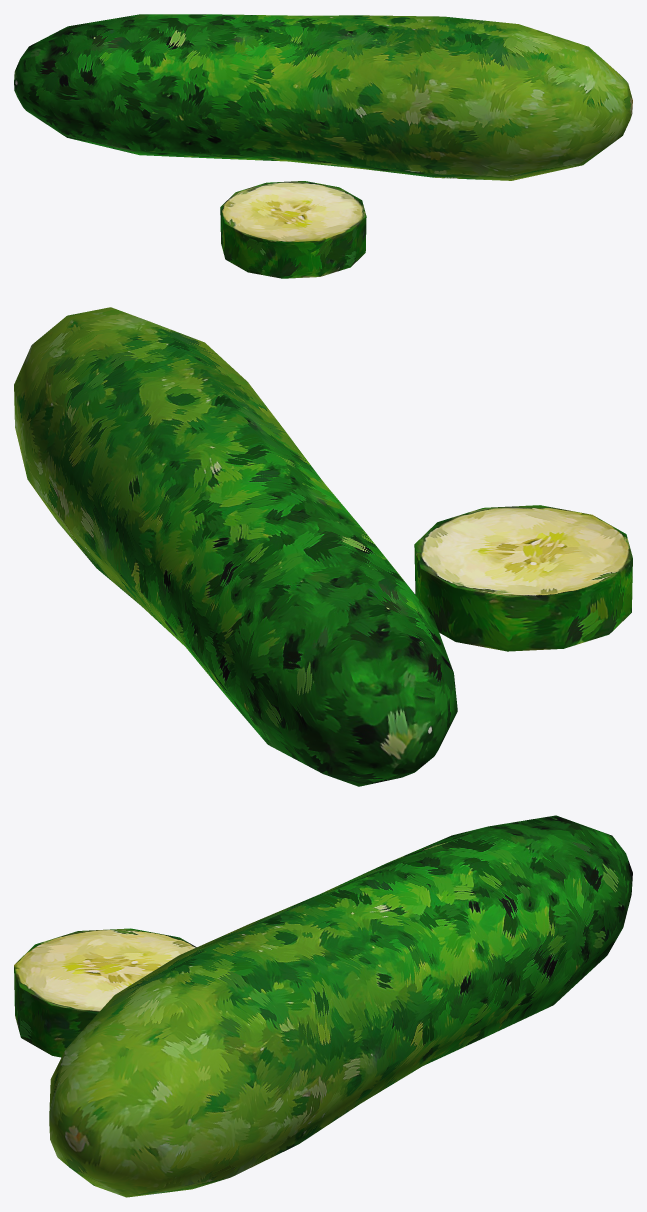
File: cuc_2_ready.fbx
3 renders of one model, top to bottom at view 1: azimuth 30°, elevation 25°; view 2: azimuth 150°, elevation 25°; view 3: azimuth 270°, elevation 25°, orthographic. The views are drawn at different scales.
Parts seen in each view (by area): view 1: cuc_2_ready; view 2: cuc_2_ready; view 3: cuc_2_ready.
Part boxes in pixels (x1=…): cuc_2_ready: x1=14, y1=14, x2=632, y2=278; cuc_2_ready: x1=14, y1=307, x2=632, y2=786; cuc_2_ready: x1=14, y1=815, x2=632, y2=1197.
Size of the model in its own units: 0.8315 by 0.7267 by 0.2615.
Materials: 1 (1 with a texture image).
